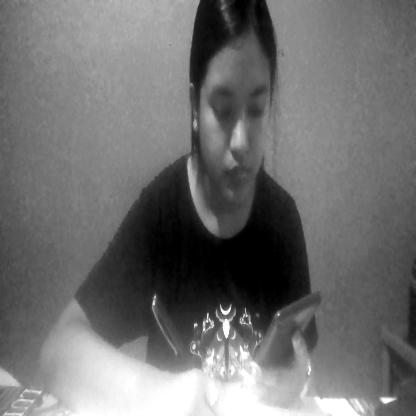Normal: (185, 6, 298, 246)
